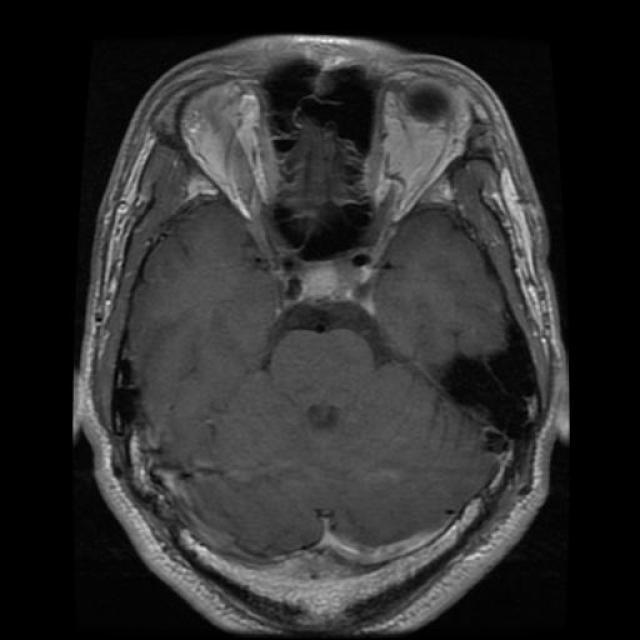pituitary: (285, 256, 388, 322)
